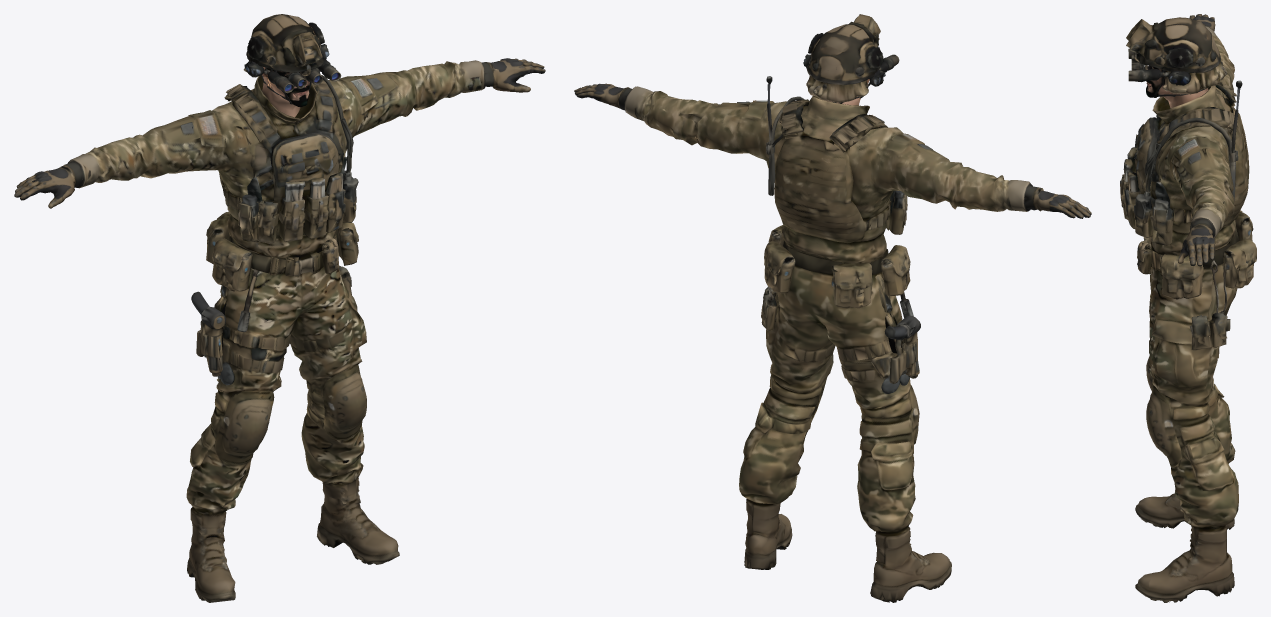
File: TacticalSoldier_Source.fbx
3 views of the same model, side by side, from view 1: azimuth 30°, elevation 25°; view 2: azimuth 150°, elevation 25°; view 3: azimuth 270°, elevation 25° (orthographic). The views are drawn at different scales.
Visible parts, largest first — view 1: geometry_0; view 2: geometry_0; view 3: geometry_0.
Boxes of the visible parts, x1,y1,x2,y2 form: geometry_0: (14, 14, 545, 602); geometry_0: (574, 14, 1091, 602); geometry_0: (1120, 14, 1256, 602).
Bounding box in the file's own units: 94.87 × 95.07 × 21.97.
1 material, 1 textured.
